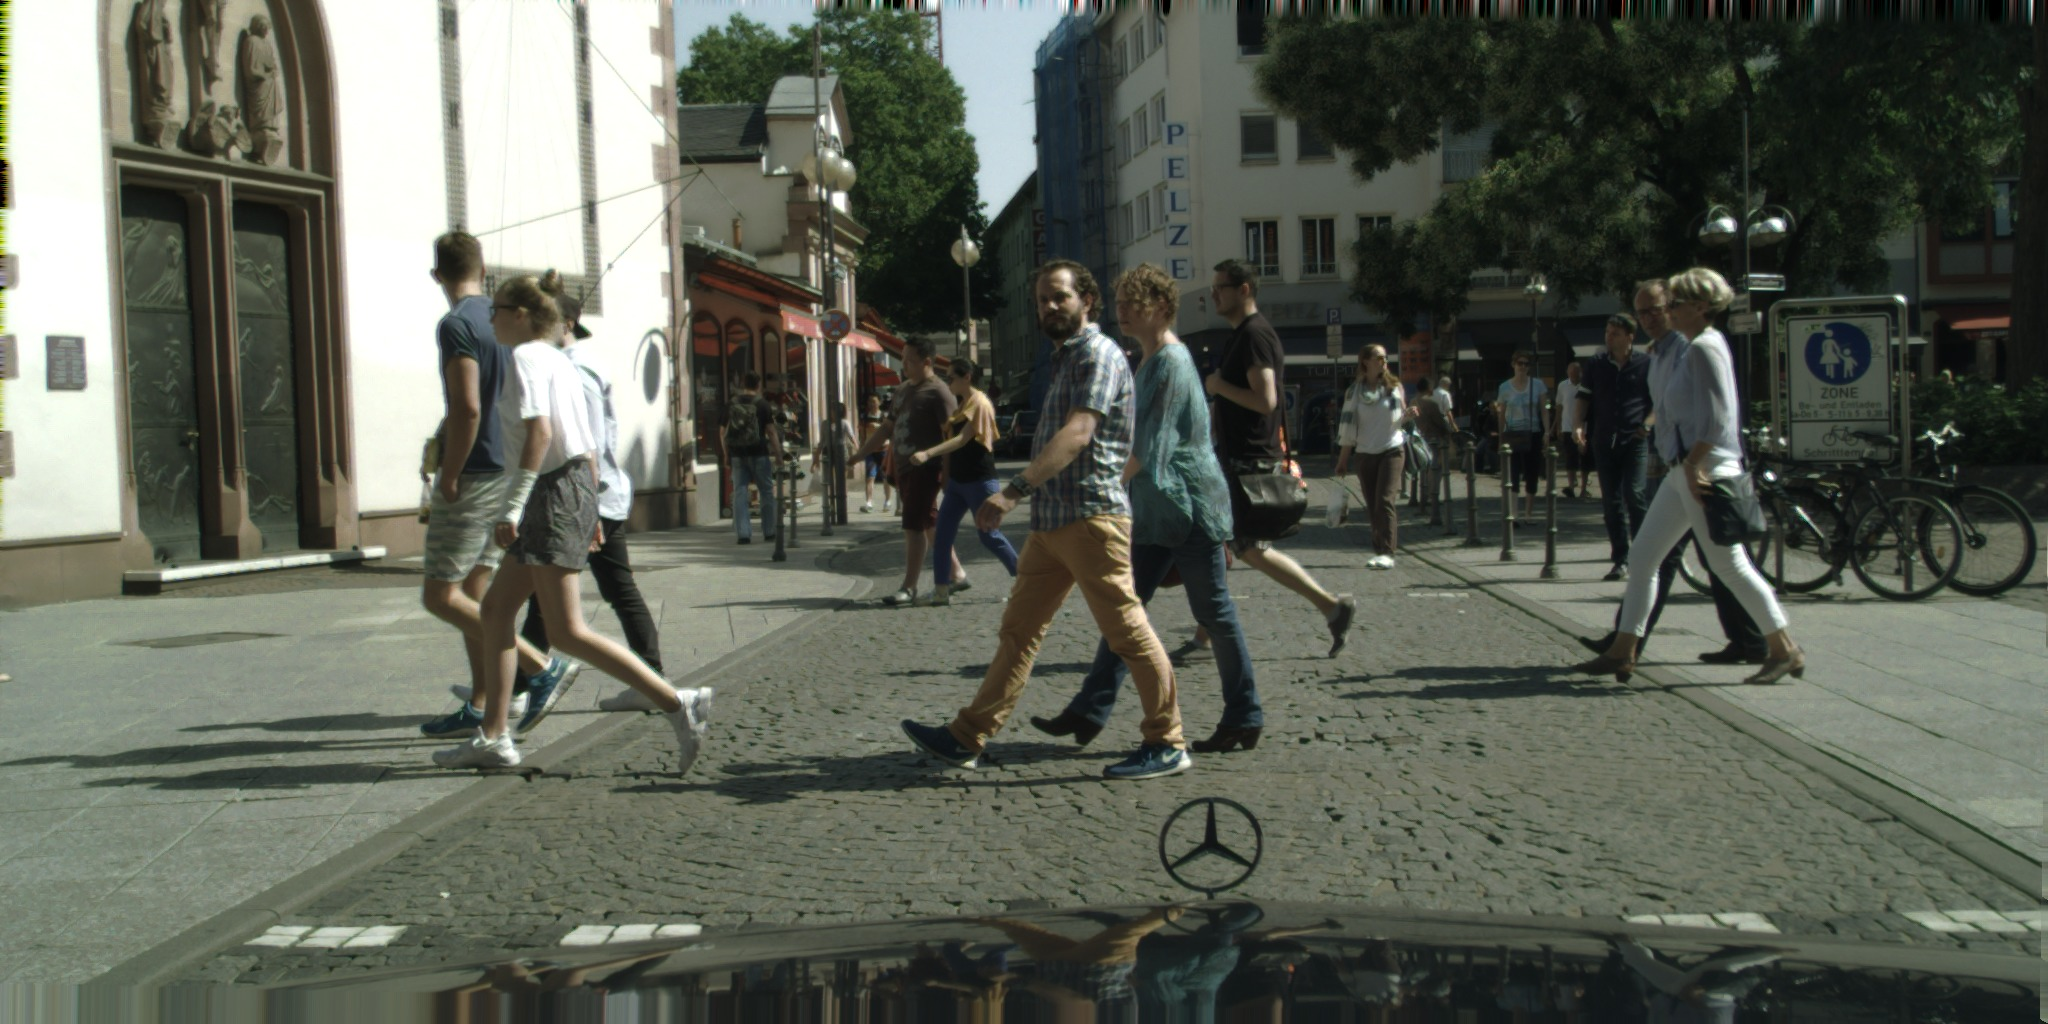bicycle: (1731, 420, 2039, 597), (1673, 426, 1966, 600)
car: (1002, 410, 1052, 459), (978, 414, 1020, 453)
person: (900, 258, 1190, 780), (435, 270, 711, 772), (1033, 260, 1263, 753), (1576, 266, 1806, 684), (449, 294, 673, 717), (417, 231, 581, 739), (1577, 277, 1777, 667), (1163, 258, 1356, 663), (848, 337, 971, 605), (909, 355, 1029, 607), (1325, 343, 1434, 571), (1571, 313, 1661, 582), (718, 370, 784, 545), (1497, 350, 1550, 527), (1555, 362, 1607, 498), (1406, 376, 1452, 505), (808, 403, 860, 508), (1424, 376, 1476, 467), (856, 392, 895, 513), (1471, 400, 1505, 473), (1571, 448, 1593, 488)
